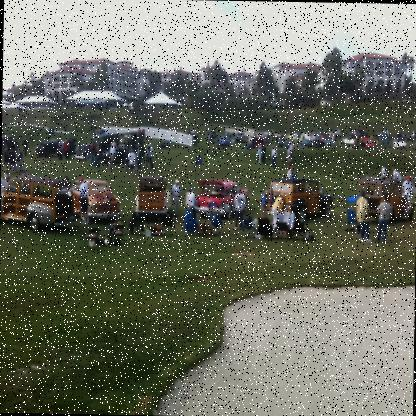Car: (0, 176, 75, 233), (257, 179, 333, 226), (348, 174, 412, 223), (192, 178, 248, 221), (124, 174, 172, 222), (70, 180, 120, 220), (67, 128, 124, 161), (29, 138, 61, 156), (0, 170, 8, 224), (296, 127, 314, 144), (200, 124, 218, 140), (2, 132, 18, 148), (218, 135, 228, 149)
